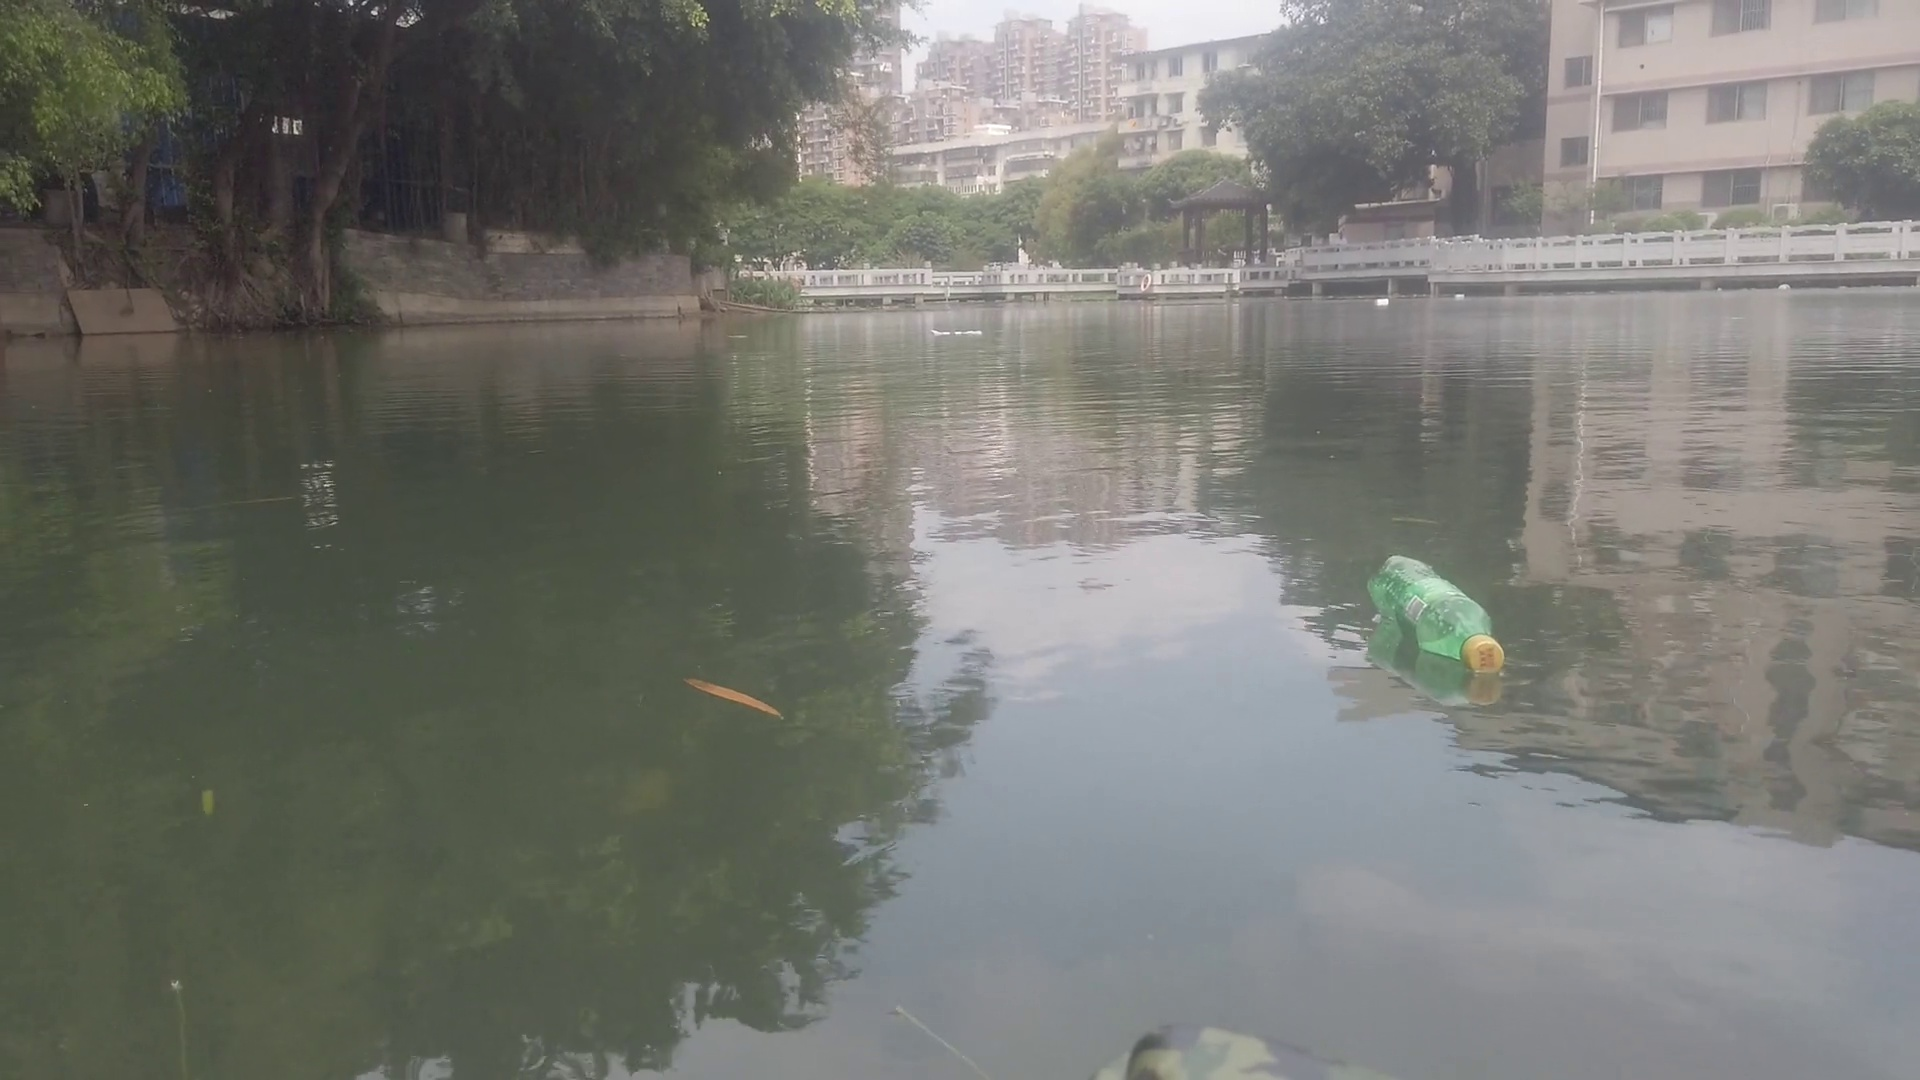bottle: (1367, 546, 1509, 675)
carton: (1373, 298, 1396, 309), (1453, 290, 1469, 303)
paper: (924, 323, 981, 339)
